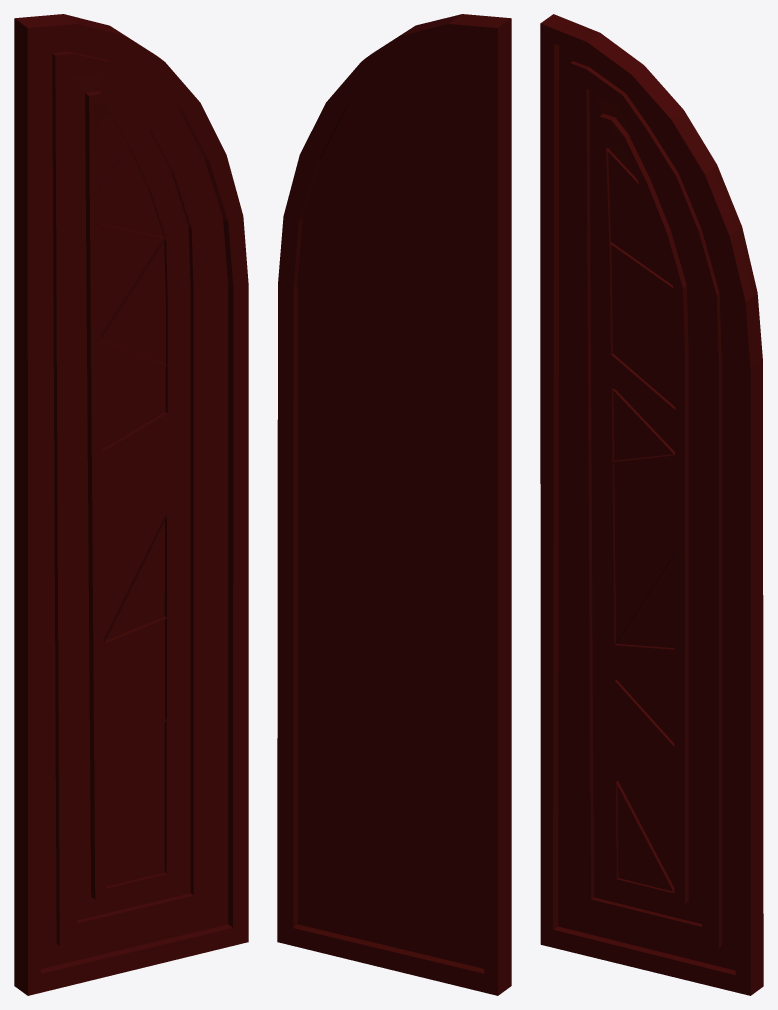
The model's file is Puerta_roja.fbx.
The picture shows the model from 3 angles, left to right: view 1: azimuth 30°, elevation 25°; view 2: azimuth 150°, elevation 25°; view 3: azimuth 330°, elevation 25°; orthographic projection. The views are drawn at different scales.
Parts seen in each view (by area): view 1: puerta; view 2: puerta; view 3: puerta.
Boxes of the visible parts, x1,y1,x2,y2 form: puerta: (14, 14, 248, 995); puerta: (277, 14, 511, 995); puerta: (540, 14, 763, 995).
Size of the model in its own units: 6733 by 28189 by 717.
